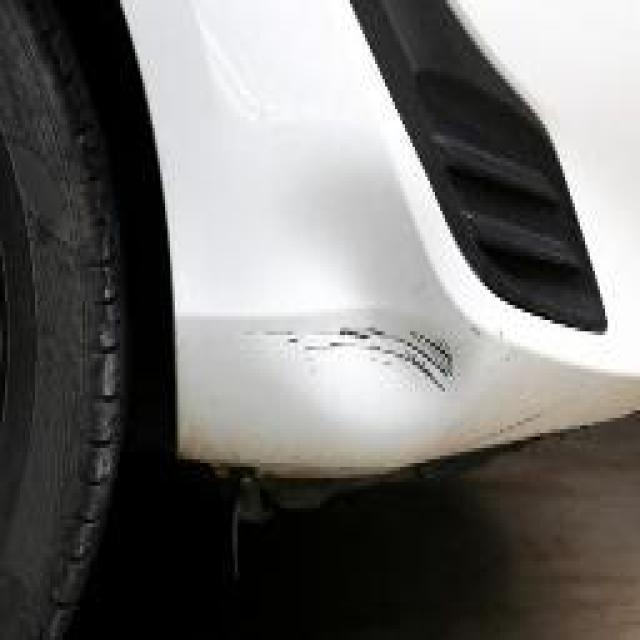Bumper: (218, 256, 500, 467)
